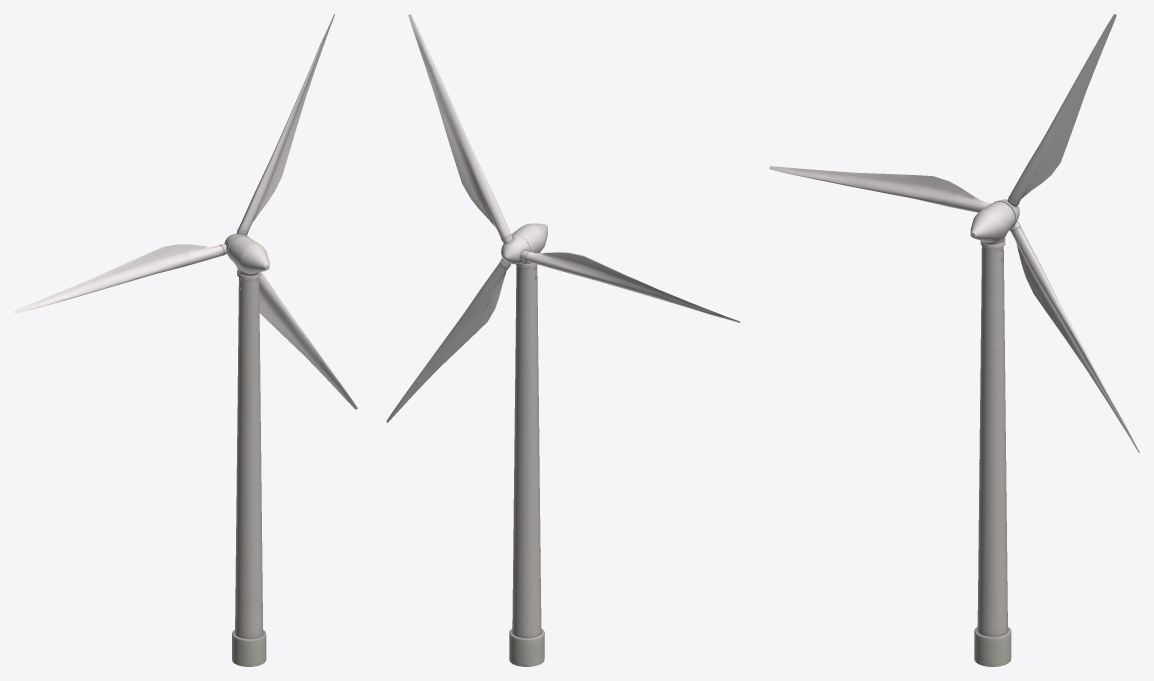
Rendered from Wind_Turbine.glb.
3 views of the same model, side by side, from view 1: azimuth 30°, elevation 25°; view 2: azimuth 150°, elevation 25°; view 3: azimuth 330°, elevation 25° (orthographic). The views are drawn at different scales.
Parts seen in each view (by area): view 1: Wind_Turbine__LOD3; view 2: Wind_Turbine__LOD3; view 3: Wind_Turbine__LOD3.
Part boxes in pixels (<box>): Wind_Turbine__LOD3: <box>14,14,357,666</box>; Wind_Turbine__LOD3: <box>386,14,740,666</box>; Wind_Turbine__LOD3: <box>769,14,1139,666</box>.
Size of the model in its own units: 11.41 by 19.43 by 2.26.
1 material, 1 textured.
